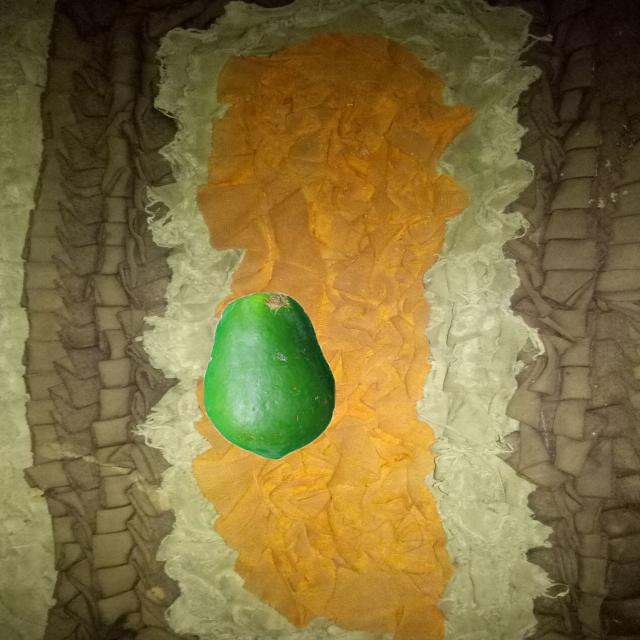Pepaya unrippen: (200, 290, 347, 460)
